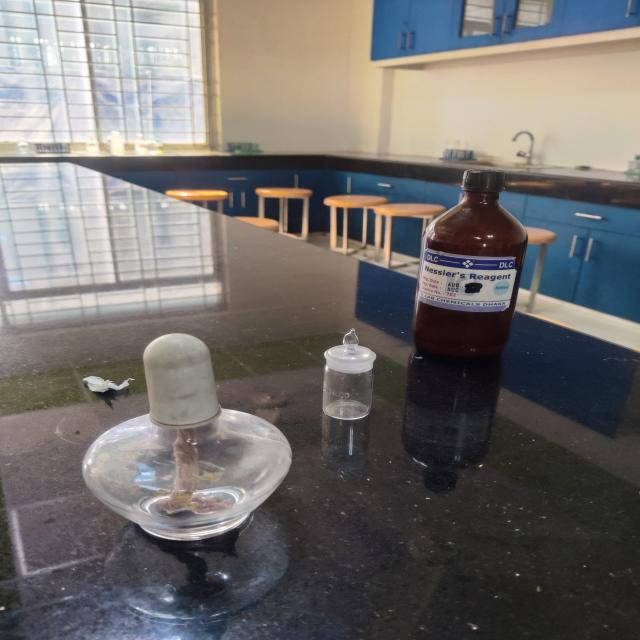Nessler_Reagent_Bottle: (398, 146, 552, 384)
Spirit_Lamp: (69, 308, 299, 572)
Weighing_Bottle: (316, 306, 386, 446)
